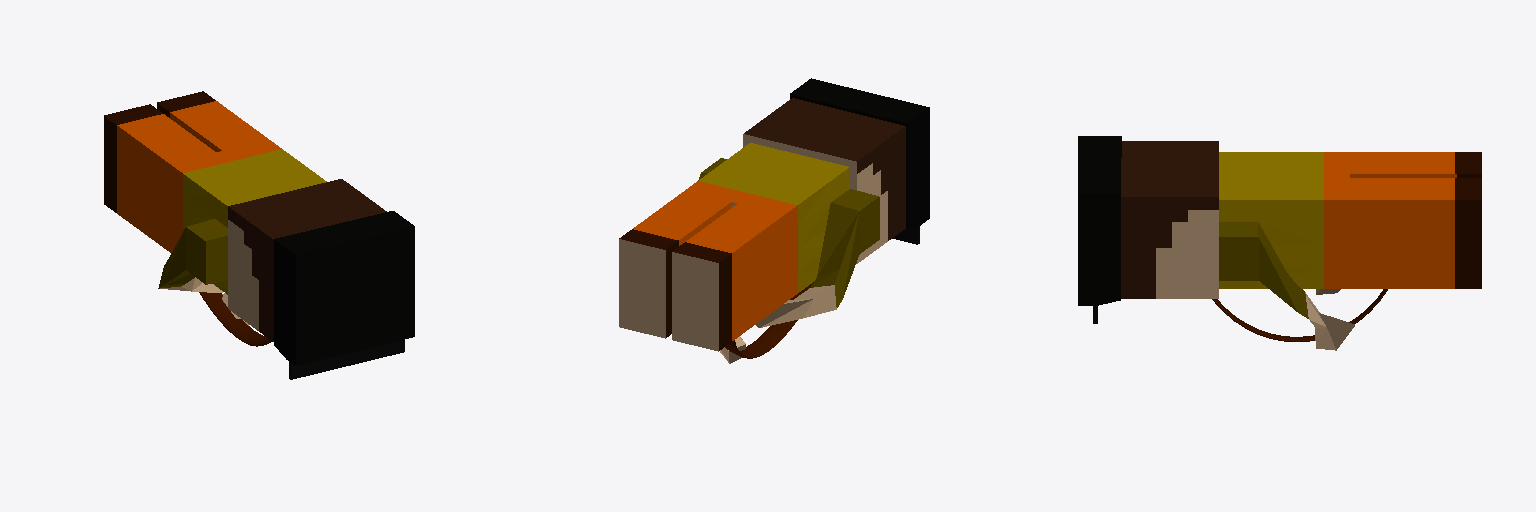
The model's file is worker.obj.
3 views of the same model, side by side, from view 1: azimuth 30°, elevation 25°; view 2: azimuth 150°, elevation 25°; view 3: azimuth 270°, elevation 25° (orthographic).
Visible parts, largest first — view 1: Cube, Bow; view 2: Cube, Bow; view 3: Cube, Bow.
Part boxes in pixels (x1,y1,x2,y2): Cube: (104, 91, 414, 379); Bow: (199, 292, 271, 346); Cube: (619, 78, 929, 363); Bow: (725, 282, 813, 358); Cube: (1078, 136, 1481, 350); Bow: (1212, 289, 1387, 341).
Bounding box in the file's own units: 1 × 1.02 × 2.08.